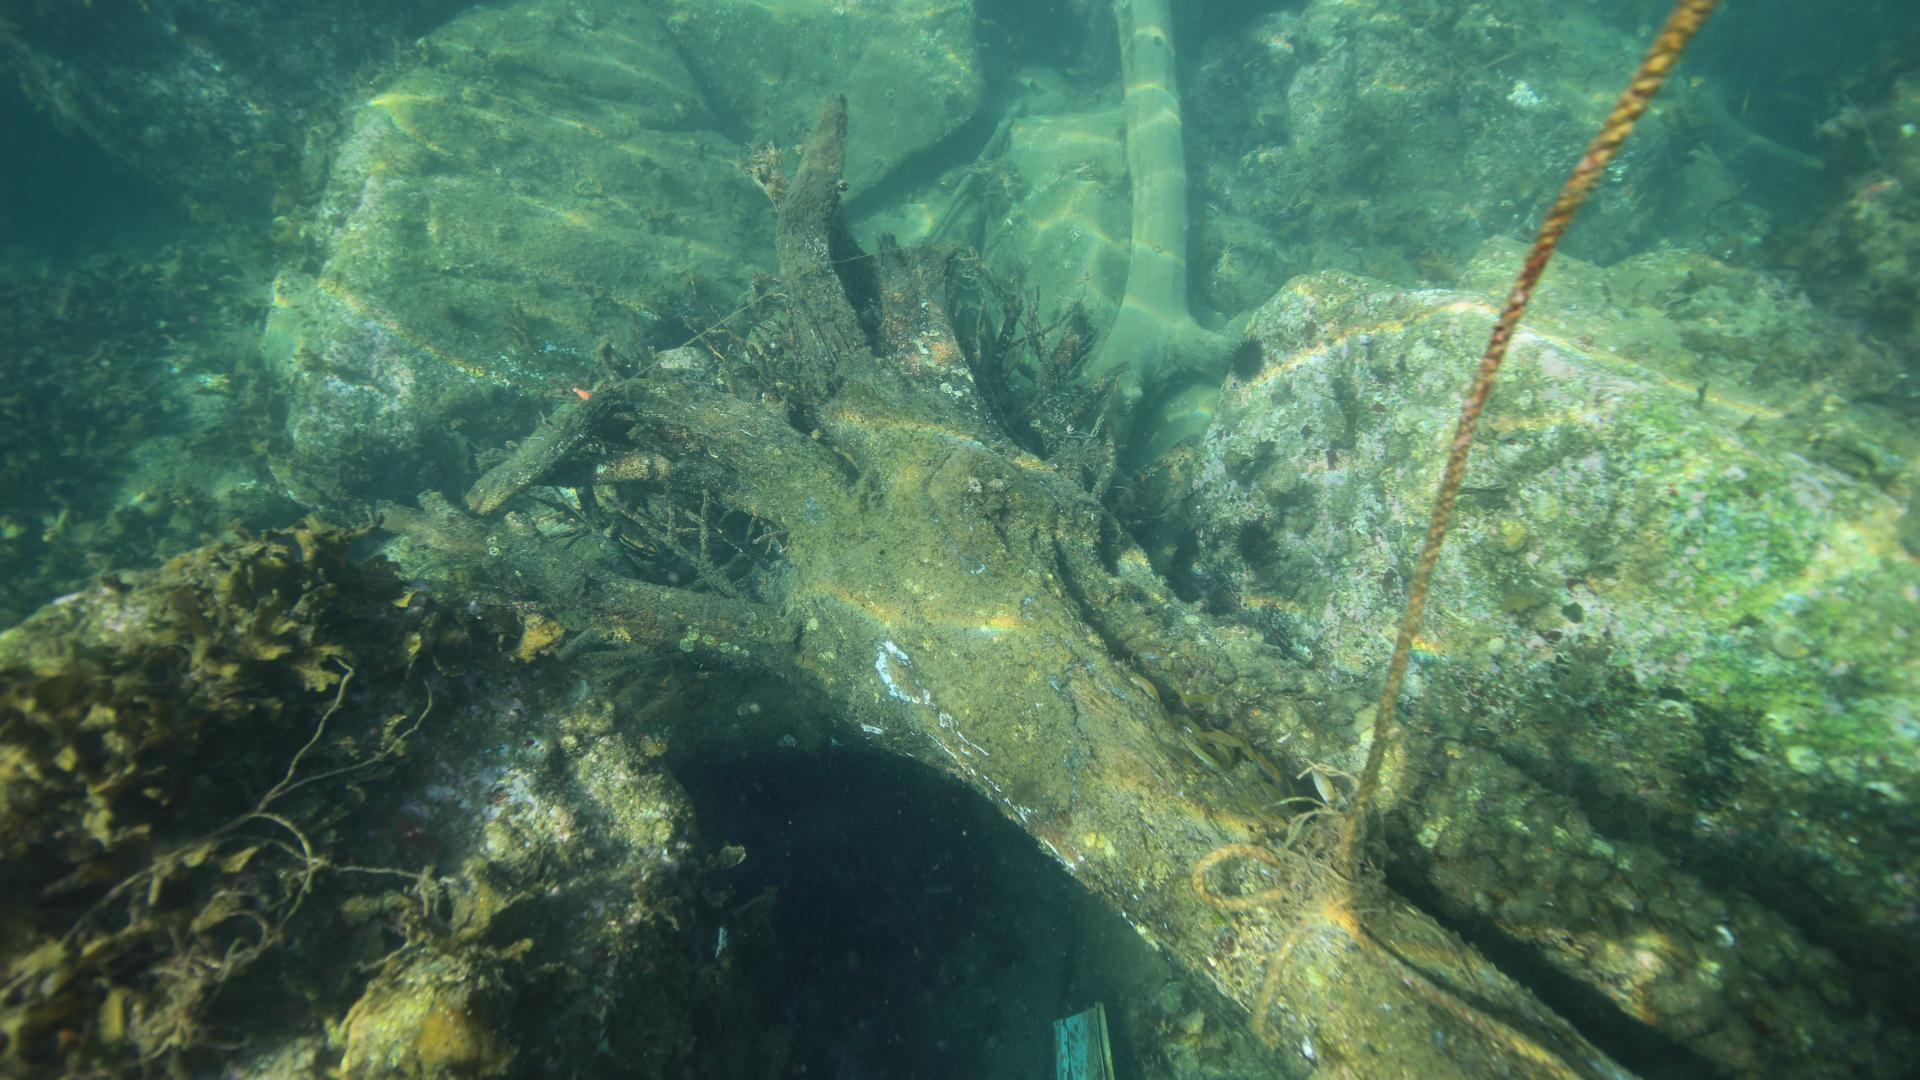bundle of ropes: (1179, 0, 1708, 1080)
